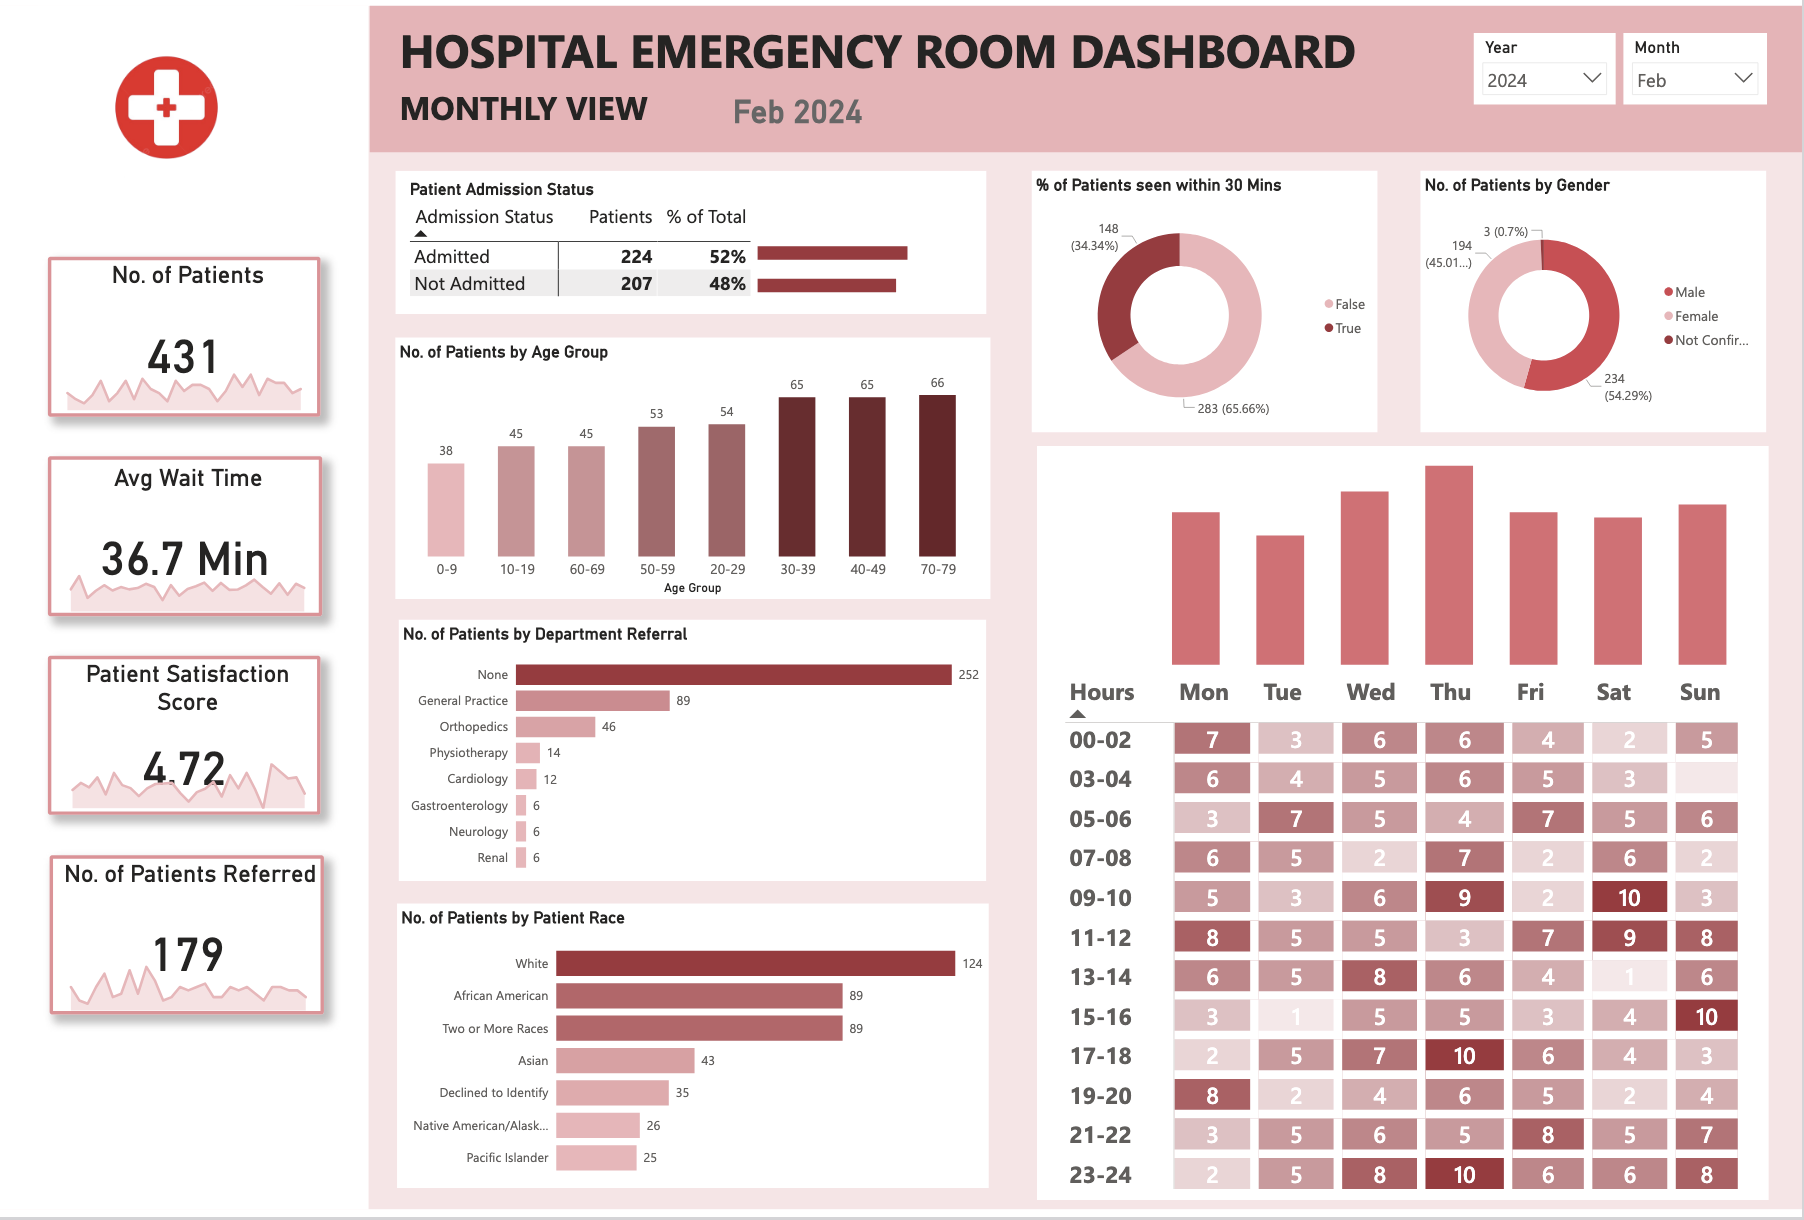

What the dashboard file says about the page in this screenshot:
{"tool":"powerbi","page":{"name":"Page 1","canvas":[2100,1400],"ordinal":0},"visuals":[{"type":"shape","box":[0,0,431.2,1400],"z":0},{"type":"shape","box":[462.5,191.7,687.5,166.7],"z":0,"group":"g7"},{"type":"shape","box":[431.2,0,1868.8,170.8],"z":1000},{"type":"areaChart","fields":{"Category":["Date Table.Date.Variation.Date Hierarchy.Day"],"Y":["data.No. of Patients"]},"box":[55.3,408.5,320.8,67.6],"z":1000,"group":"g4"},{"type":"textbox","box":[462.5,10.4,1150,89.6],"z":2000},{"type":"textbox","box":[462.5,87.5,389.6,64.6],"z":3000},{"type":"image","box":[47,0,298.6,236.6],"z":4000},{"type":"slicer","fields":{"Values":["Date Table.Year"]},"box":[1716.7,31.2,164.6,83.3],"z":5000},{"type":"slicer","fields":{"Values":["Date Table.Month Name"]},"box":[1889.6,31.2,166.7,83.3],"z":6000},{"type":"card","title":"No. of Patients","fields":{"Values":["data.No. of Patients"]},"box":[58.1,292.7,317.5,185.9],"z":6000,"group":"g4"},{"type":"card","fields":{"Values":["Min(Date Table.Month & Year)"]},"box":[806.2,79.2,247.9,79.2],"z":7000},{"type":"donutChart","title":"No. of Patients by Gender","fields":{"Category":["data.Patient Gender"],"Y":["CountNonNull(data.Patient Gender)"]},"box":[1654.2,191.7,402.1,304.2],"z":8000},{"type":"card","title":"No. of Patients Referred","fields":{"Values":["data.No of Patients Referred"]},"box":[60,987.6,319.3,185.1],"z":8000,"group":"g6"},{"type":"columnChart","fields":{"Y":["data.No. of Patients"],"Category":["data.Age Group"]},"box":[462.5,385.4,691.7,304.2],"z":9000},{"type":"areaChart","fields":{"Category":["Date Table.Date.Variation.Date Hierarchy.Day"],"Y":["data.No of Patients Referred"]},"box":[60.4,1095,322.6,78.5],"z":9000,"group":"g6"},{"type":"group","id":"g1","title":"Group 1","box":[60,987.6,323,185.9],"z":10000},{"type":"pivotTable","title":"Patient Admission Status","fields":{"Rows":["data.Admission Status"],"Values":["data.No. of Patients1","data.No. of Patients"]},"box":[475,202.1,522.9,158.3],"z":11000,"group":"g7"},{"type":"areaChart","fields":{"Category":["Date Table.Date.Variation.Date Hierarchy.Day"],"Y":["Avg(data.Patient Waittime)"]},"box":[60.3,643,320.8,67.6],"z":11000,"group":"g3"},{"type":"group","id":"g2","title":"Group 2","box":[58.1,756.6,323.9,185],"z":11000},{"type":"card","title":"Patient Satisfaction Score","fields":{"Values":["data.Pateint Satisfaction Score"]},"box":[58.1,756.6,317.5,185],"z":11500,"group":"g5"},{"type":"barChart","fields":{"Category":["data.Admission Status"],"Y":["data.No. of Patients"]},"box":[879.2,247.9,243.8,112.5],"z":12000,"group":"g7"},{"type":"group","id":"g3","title":"Group 3","box":[58.1,524.7,323,185.9],"z":12000},{"type":"group","id":"g4","title":"Group 4","box":[55.3,292.7,320.8,185.9],"z":13000},{"type":"areaChart","fields":{"Category":["Date Table.Date.Variation.Date Hierarchy.Day"],"Y":["data.Pateint Satisfaction Score"]},"box":[62.7,869.2,319.3,71.4],"z":13000,"group":"g5"},{"type":"barChart","fields":{"Category":["data.Department Referral"],"Y":["data.No. of Patients"]},"box":[466.7,714.6,683.3,304.2],"z":14000},{"type":"card","title":"Avg Wait Time","fields":{"Values":["data.Measure"]},"box":[58.1,524.7,318.5,185.9],"z":15000,"group":"g3"},{"type":"barChart","fields":{"Y":["data.No. of Patients"],"Category":["data.Patient Race"]},"box":[464.6,1043.8,687.5,331.2],"z":15000},{"type":"donutChart","title":"% of Patients seen within 30 Mins","fields":{"Category":["data.Wait Time under 30 minutes"],"Y":["CountNonNull(data.Patient Waittime)"]},"box":[1201,191.7,402.1,304.2],"z":16000},{"type":"group","id":"g5","title":"Group 5","box":[58.1,756.6,323.9,185],"z":16001,"group":"g2"},{"type":"group","id":"g6","title":"Group 6","box":[60,987.6,323,185.9],"z":16001,"group":"g1"},{"type":"shape","box":[1204.2,525,852.1,864.6],"z":17000,"group":"g8"},{"type":"group","id":"g7","title":"Group 7","box":[462.5,191.7,687.5,168.8],"z":18000},{"type":"pivotTable","fields":{"Rows":["data.Waittime Interval"],"Columns":["Date Table.Week Day"],"Values":["data.No. of Patients"]},"box":[1231.3,781.3,810.4,600],"z":19000,"group":"g8"},{"type":"columnChart","fields":{"Category":["Date Table.Week Day"],"Y":["data.No. of Patients"]},"box":[1354.2,525,660.4,256.2],"z":20000,"group":"g8"},{"type":"group","id":"g8","title":"Group 8","box":[1204.2,525,852.1,864.6],"z":20001}]}

Visuals, with their boxes in screenshot pixels (x1, y1, x2, y2), scaled from the page's 2100x1400 canvas onto the 1804x1220 screenshot:
shape: box(0, 0, 370, 1219)
shape: box(397, 167, 988, 312)
shape: box(370, 0, 1803, 149)
areaChart - Date Table.Date.Variation.Date Hierarchy.Day x data.No. of Patients: box(48, 356, 323, 415)
textbox: box(397, 9, 1385, 87)
textbox: box(397, 76, 732, 133)
image: box(40, 0, 297, 206)
slicer - Date Table.Year: box(1475, 27, 1616, 100)
slicer - Date Table.Month Name: box(1623, 27, 1766, 100)
"No. of Patients" card: box(50, 255, 323, 417)
card - Min(Date Table.Month & Year): box(693, 69, 906, 138)
"No. of Patients by Gender" donutChart: box(1421, 167, 1766, 432)
"No. of Patients Referred" card: box(52, 861, 326, 1022)
columnChart - data.No. of Patients x data.Age Group: box(397, 336, 992, 601)
areaChart - Date Table.Date.Variation.Date Hierarchy.Day x data.No of Patients Referred: box(52, 954, 329, 1023)
"Group 1" group: box(52, 861, 329, 1023)
"Patient Admission Status" pivotTable: box(408, 176, 857, 314)
areaChart - Date Table.Date.Variation.Date Hierarchy.Day x Avg(data.Patient Waittime): box(52, 560, 327, 619)
"Group 2" group: box(50, 659, 328, 821)
"Patient Satisfaction Score" card: box(50, 659, 323, 821)
barChart - data.Admission Status x data.No. of Patients: box(755, 216, 965, 314)
"Group 3" group: box(50, 457, 327, 619)
"Group 4" group: box(48, 255, 323, 417)
areaChart - Date Table.Date.Variation.Date Hierarchy.Day x data.Pateint Satisfaction Score: box(54, 757, 328, 820)
barChart - data.Department Referral x data.No. of Patients: box(401, 623, 988, 888)
"Avg Wait Time" card: box(50, 457, 324, 619)
barChart - data.No. of Patients x data.Patient Race: box(399, 910, 990, 1198)
"% of Patients seen within 30 Mins" donutChart: box(1032, 167, 1377, 432)
"Group 5" group: box(50, 659, 328, 821)
"Group 6" group: box(52, 861, 329, 1023)
shape: box(1034, 458, 1766, 1211)
"Group 7" group: box(397, 167, 988, 314)
pivotTable - data.Waittime Interval x Date Table.Week Day: box(1058, 681, 1754, 1204)
columnChart - Date Table.Week Day x data.No. of Patients: box(1163, 458, 1731, 681)
"Group 8" group: box(1034, 458, 1766, 1211)
